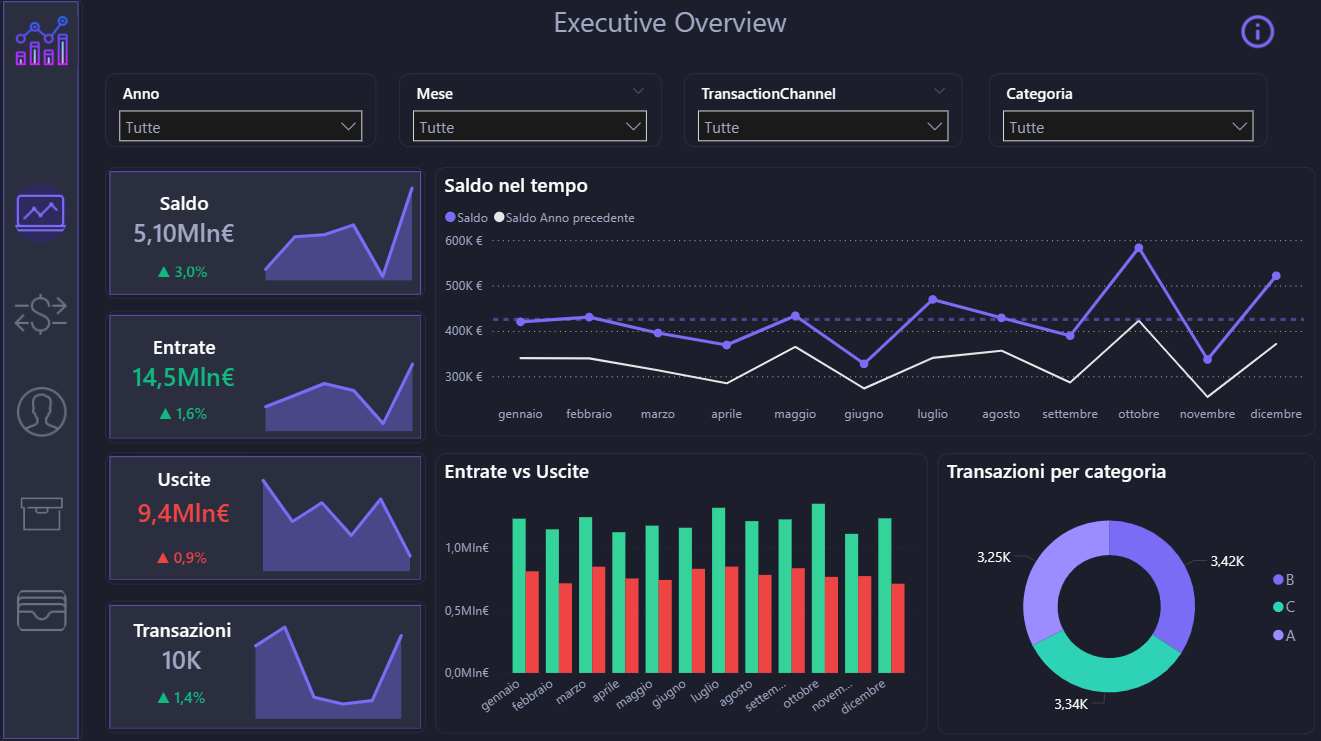

The dashboard page shown, as its layout file describes it:
{"tool":"powerbi","page":{"name":"Executive Overview","canvas":[1280,720],"ordinal":0},"visuals":[{"type":"shape","box":[102.9,583,309.3,127.7],"z":0},{"type":"shape","box":[102.9,439.4,309.3,127.7],"z":1000},{"type":"card","title":"Transazioni","fields":{"Values":["Misure.N.transazioni"]},"box":[112.7,592.9,127.7,71.2],"z":2000},{"type":"lineChart","fields":{"Y":["Misure.N transazioniSucces"],"Category":["Calendario.Date.Variazione.Gerarchia data.Anno"]},"box":[233,583,170.6,119.1],"z":3000},{"type":"shape","box":[0,0,80.8,720.2],"z":4000},{"type":"textbox","box":[486.2,0,308.8,83.8],"z":5000},{"type":"shape","box":[103.1,164.1,308.8,127.4],"z":6000},{"type":"card","title":"Saldo","fields":{"Values":["Misure.Saldo"]},"box":[113.4,179.2,129.2,73.2],"z":7000},{"type":"shape","box":[102.9,303.2,309.3,127.7],"z":8000},{"type":"card","title":"Entrate","fields":{"Values":["Misure.Entrate"]},"box":[113.9,317.9,128.9,72.4],"z":9000},{"type":"lineChart","fields":{"Category":["Calendario.Date.Variazione.Gerarchia data.Anno"],"Y":["Misure.Entrate"]},"box":[242.8,309.3,171.8,115.4],"z":10000},{"type":"card","title":"Uscite","fields":{"Values":["Misure transazioni.Uscite Grafico"]},"box":[113.9,446.8,128.9,79.8],"z":11000},{"type":"lineChart","fields":{"Category":["Calendario.Date.Variazione.Gerarchia data.Anno"],"Y":["Misure transazioni.Uscite Grafico"]},"box":[240.3,446.8,171.8,112.9],"z":12000},{"type":"card","fields":{"Values":["Misure.Saldo KPI"]},"box":[126.8,252.4,101.2,24.4],"z":13000},{"type":"card","fields":{"Values":["Misure.Transazioni KPI"]},"box":[125.6,663.3,101.2,25.6],"z":14000},{"type":"card","fields":{"Values":["Misure transazioni.Entrate KPI"]},"box":[129.2,390.2,97.5,29.3],"z":15000},{"type":"card","fields":{"Values":["Misure transazioni.Uscite KPI"]},"box":[126.8,526.8,99.7,24.1],"z":16000},{"type":"slicer","fields":{"Values":["Calendario.Date.Variazione.Gerarchia data.Mese"]},"box":[386.1,73.6,253.4,71.2],"z":17000},{"type":"areaChart","title":"Saldo nel tempo","fields":{"Category":["Calendario.Date.Variazione.Gerarchia data.Mese"],"Y":["Misure transazioni.Saldo","Misure transazioni.Saldo Ly"]},"box":[421,164.5,849.4,260.2],"z":18000},{"type":"clusteredColumnChart","title":"Entrate vs Uscite","fields":{"Category":["Calendario.Date.Variazione.Gerarchia data.Mese"],"Y":["Misure transazioni.Entrate","Misure transazioni.Uscite Grafico"]},"box":[421,440.4,475.3,270.2],"z":19000},{"type":"donutChart","title":"Transazioni per categoria","fields":{"Category":["DimProductCategory.ProductCategoryName"],"Y":["Misure transazioni.N.transazioni"]},"box":[906,440.4,364.3,271.4],"z":20000},{"type":"image","box":[13.3,178.6,54.3,60.3],"z":21000},{"type":"image","box":[13.3,276.3,54.3,60.3],"z":22000},{"type":"image","box":[14.5,370.4,54.3,60.3],"z":23000},{"type":"image","box":[14.5,466.9,54.3,60.3],"z":24000},{"type":"image","box":[14.5,562.2,54.3,60.3],"z":25000},{"type":"slicer","fields":{"Values":["Calendario.Date.Variazione.Gerarchia data.Anno"]},"box":[102.5,73.6,261.8,71.2],"z":26000},{"type":"slicer","fields":{"Values":["FactTransaction.TransactionChannel"]},"box":[661.1,73.6,269,71.2],"z":27000},{"type":"slicer","fields":{"Values":["DimProductCategory.ProductCategoryName"]},"box":[955.5,73.6,269,71.2],"z":28000},{"type":"lineChart","fields":{"Category":["Calendario.Date.Variazione.Gerarchia data.Anno"],"Y":["Misure transazioni.Saldo"]},"box":[242.5,164.1,171.3,114.6],"z":29000},{"type":"image","box":[6.9,11,68.6,63.1],"z":30000},{"type":"actionButton","box":[1192,9.7,45.8,47.1],"z":32500}]}

Visuals, with their boxes on the page's 1280x720 design canvas (x1, y1, x2, y2). These are canvas units, not pixel positions in the 1321x741 screenshot, which may show the page scaled, cropped or inside an application window:
shape: BBox(103, 583, 412, 711)
shape: BBox(103, 439, 412, 567)
"Transazioni" card: BBox(113, 593, 240, 664)
lineChart - Misure.N transazioniSucces x Calendario.Date.Variazione.Gerarchia data.Anno: BBox(233, 583, 404, 702)
shape: BBox(0, 0, 81, 720)
textbox: BBox(486, 0, 795, 84)
shape: BBox(103, 164, 412, 292)
"Saldo" card: BBox(113, 179, 243, 252)
shape: BBox(103, 303, 412, 431)
"Entrate" card: BBox(114, 318, 243, 390)
lineChart - Calendario.Date.Variazione.Gerarchia data.Anno x Misure.Entrate: BBox(243, 309, 415, 425)
"Uscite" card: BBox(114, 447, 243, 527)
lineChart - Calendario.Date.Variazione.Gerarchia data.Anno x Misure transazioni.Uscite Grafico: BBox(240, 447, 412, 560)
card - Misure.Saldo KPI: BBox(127, 252, 228, 277)
card - Misure.Transazioni KPI: BBox(126, 663, 227, 689)
card - Misure transazioni.Entrate KPI: BBox(129, 390, 227, 420)
card - Misure transazioni.Uscite KPI: BBox(127, 527, 226, 551)
slicer - Calendario.Date.Variazione.Gerarchia data.Mese: BBox(386, 74, 640, 145)
"Saldo nel tempo" areaChart: BBox(421, 164, 1270, 425)
"Entrate vs Uscite" clusteredColumnChart: BBox(421, 440, 896, 711)
"Transazioni per categoria" donutChart: BBox(906, 440, 1270, 712)
image: BBox(13, 179, 68, 239)
image: BBox(13, 276, 68, 337)
image: BBox(14, 370, 69, 431)
image: BBox(14, 467, 69, 527)
image: BBox(14, 562, 69, 622)
slicer - Calendario.Date.Variazione.Gerarchia data.Anno: BBox(102, 74, 364, 145)
slicer - FactTransaction.TransactionChannel: BBox(661, 74, 930, 145)
slicer - DimProductCategory.ProductCategoryName: BBox(956, 74, 1224, 145)
lineChart - Calendario.Date.Variazione.Gerarchia data.Anno x Misure transazioni.Saldo: BBox(242, 164, 414, 279)
image: BBox(7, 11, 76, 74)
actionButton: BBox(1192, 10, 1238, 57)
